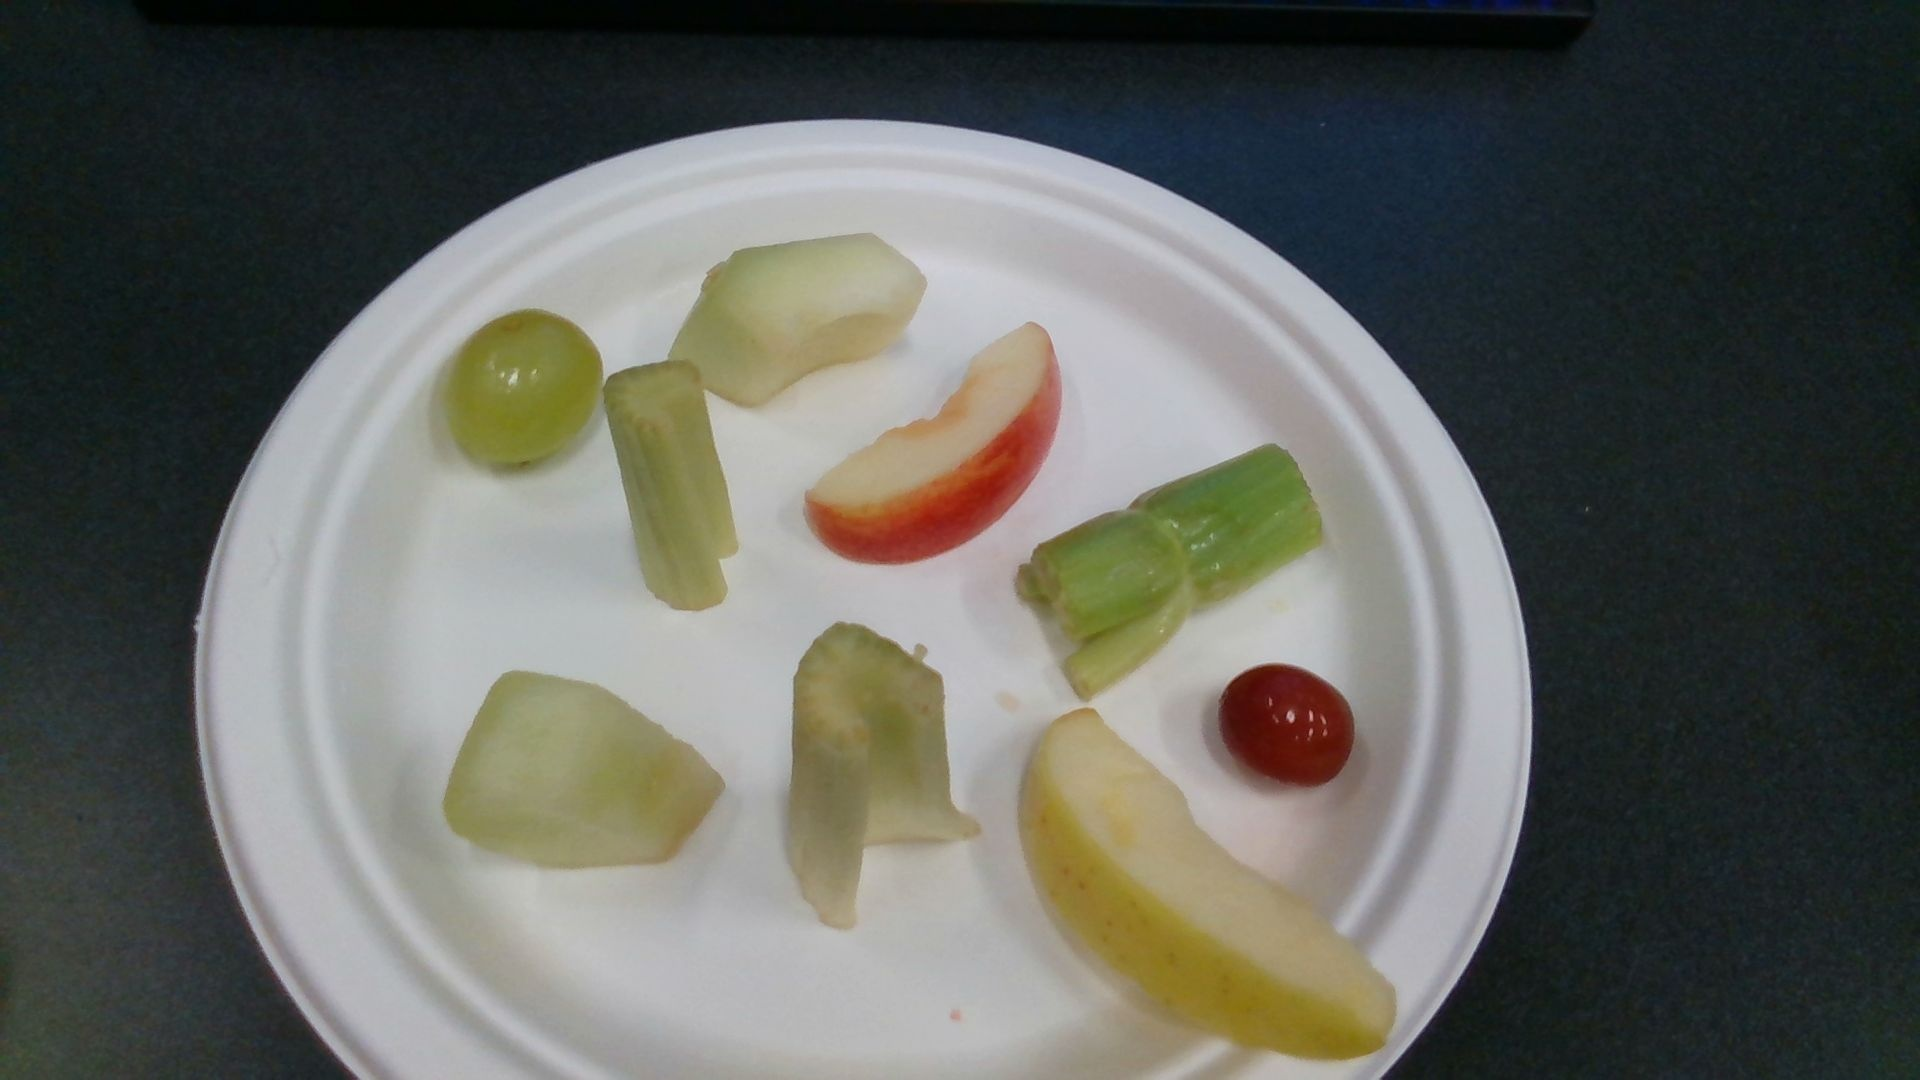apple: (1025, 711, 1395, 1062), (804, 326, 1062, 558)
cantalope: (444, 671, 724, 868), (669, 235, 924, 405)
celery: (1017, 446, 1320, 698), (793, 622, 980, 926), (605, 360, 735, 608)
grape_green: (450, 310, 600, 462)
grape_purple: (1222, 666, 1357, 790)
